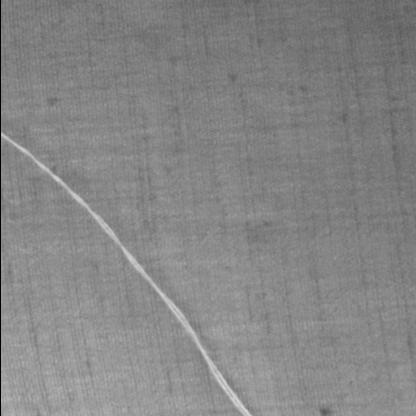objects: (1, 125, 260, 415)
